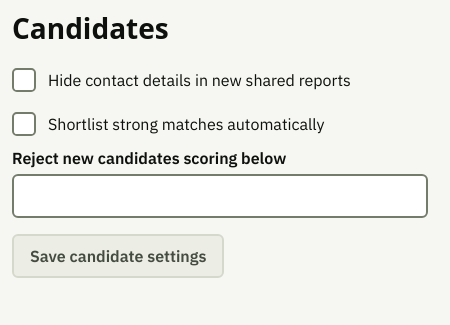
Test: candidate preferences › shows a wrong limit next to its field
Step 1. Type "150" into the number field labelled "Reject new candidates scoring below" → point(220, 196), box top-left (12, 174), bottom-right (428, 218)
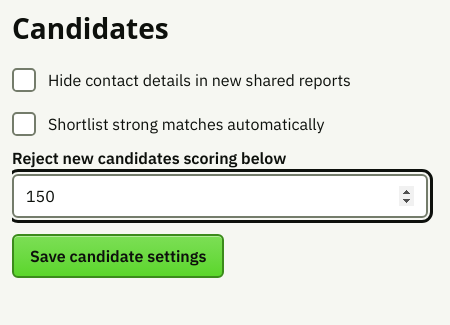
Step 2. Click the button "Save candidate settings" → point(118, 256), box top-left (12, 234), bottom-right (224, 278)
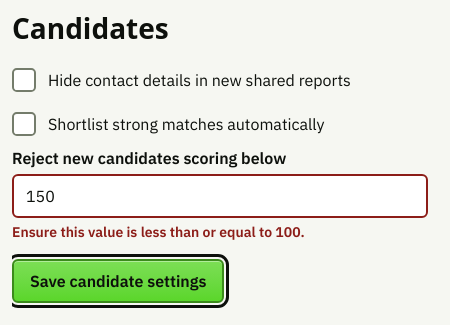
Expected: the text "Ensure this value is less than or equal to 100." is shown, top-left (11, 222), bottom-right (305, 241)
